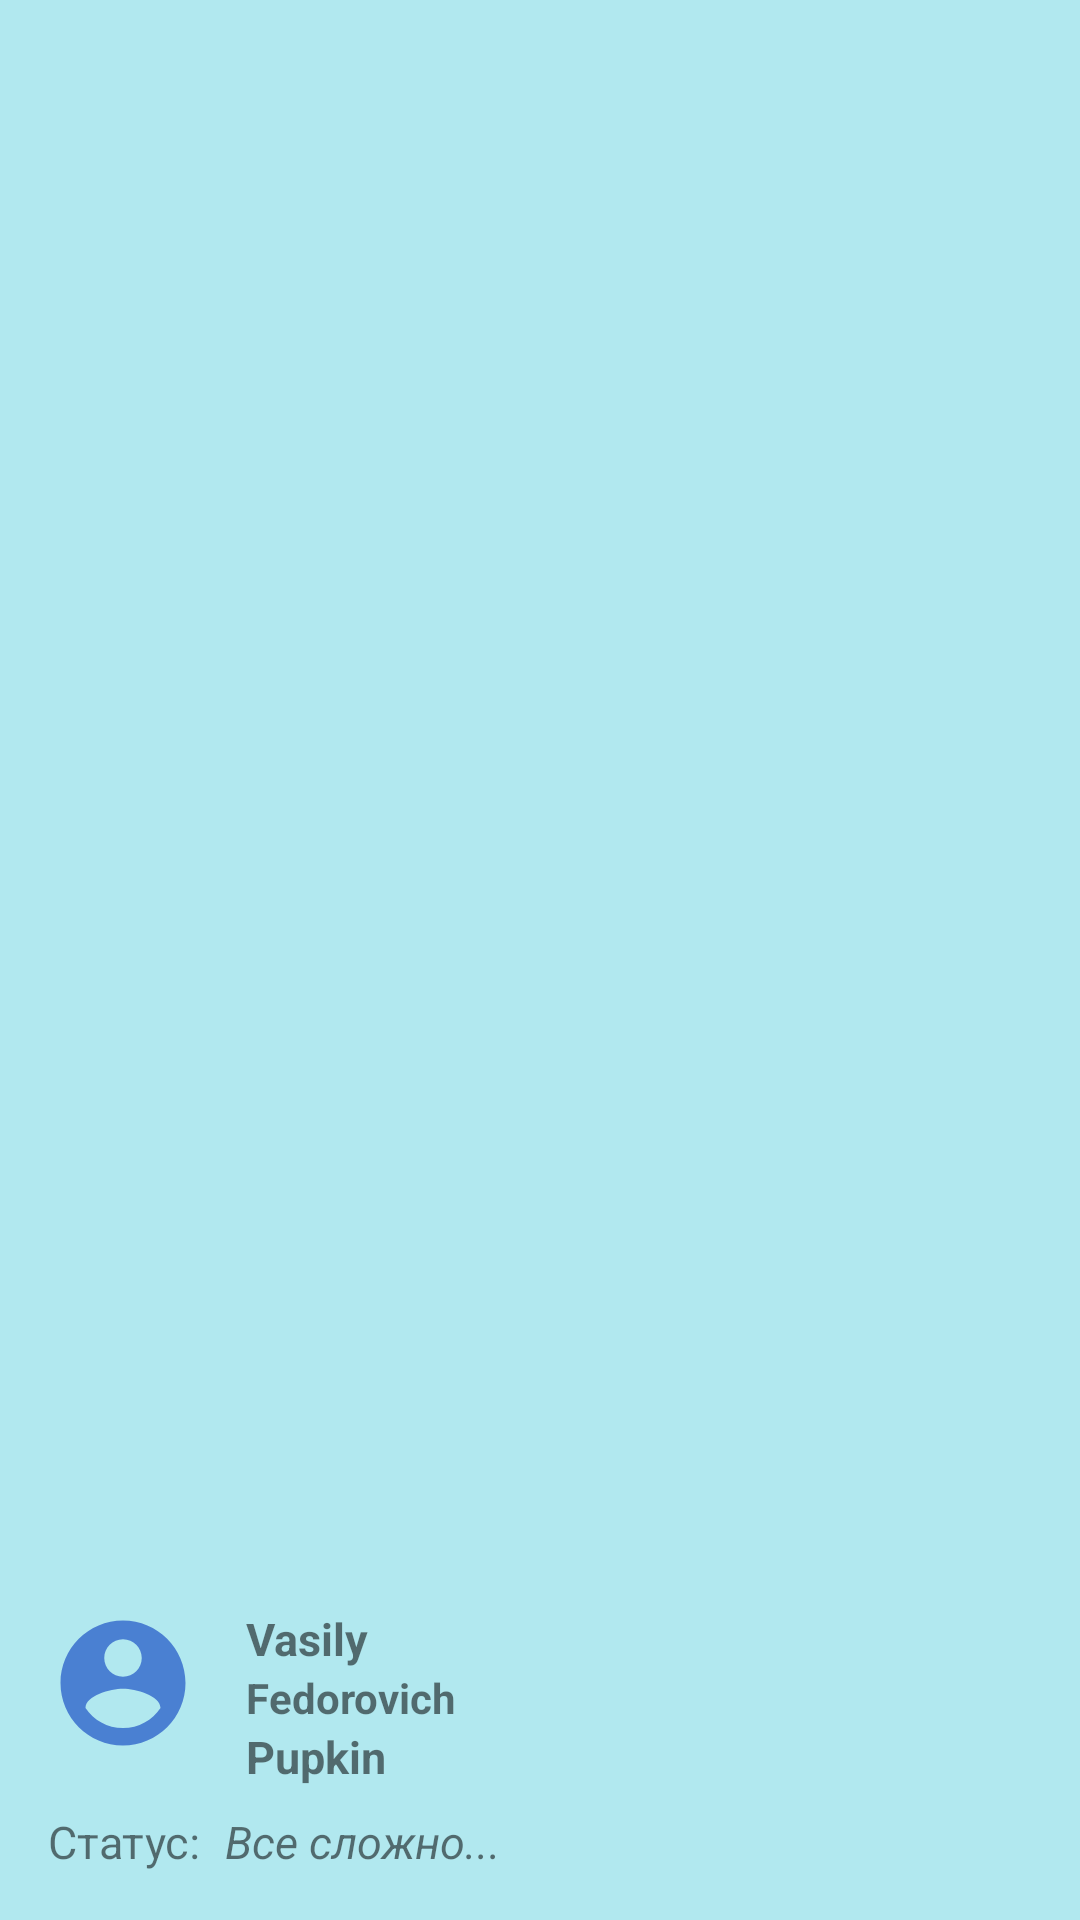

Icon click points for this 1080 × 1920 phone screenshot, format point (x, y):
account circle: point (123, 1683)
